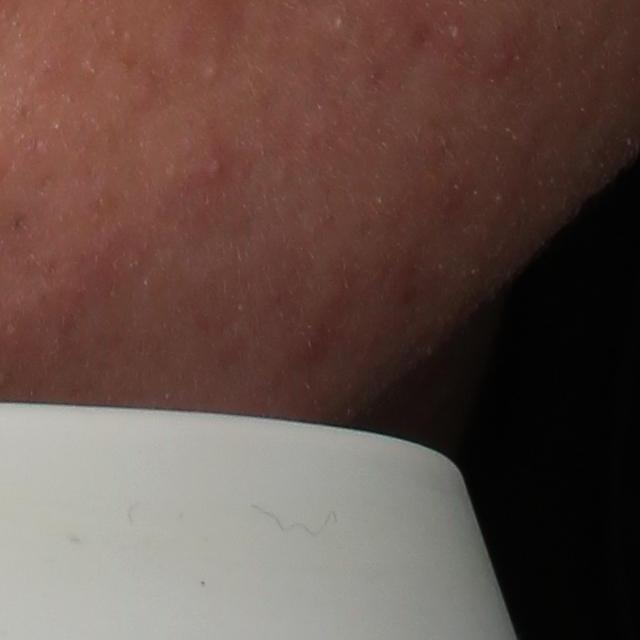comedo: (202, 62, 225, 83)
papule: (195, 154, 226, 188)
